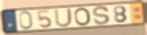0: (19, 10, 34, 31)
5: (37, 9, 53, 29)
8: (114, 5, 129, 23)
O: (74, 7, 93, 27)
S: (92, 5, 111, 26)
U: (54, 7, 74, 28)
